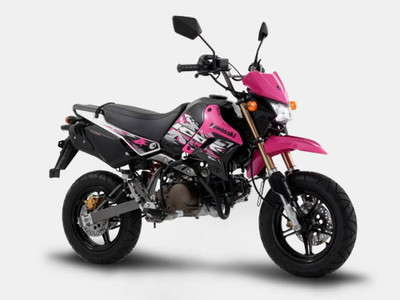motorcycle: (47, 54, 361, 279)
